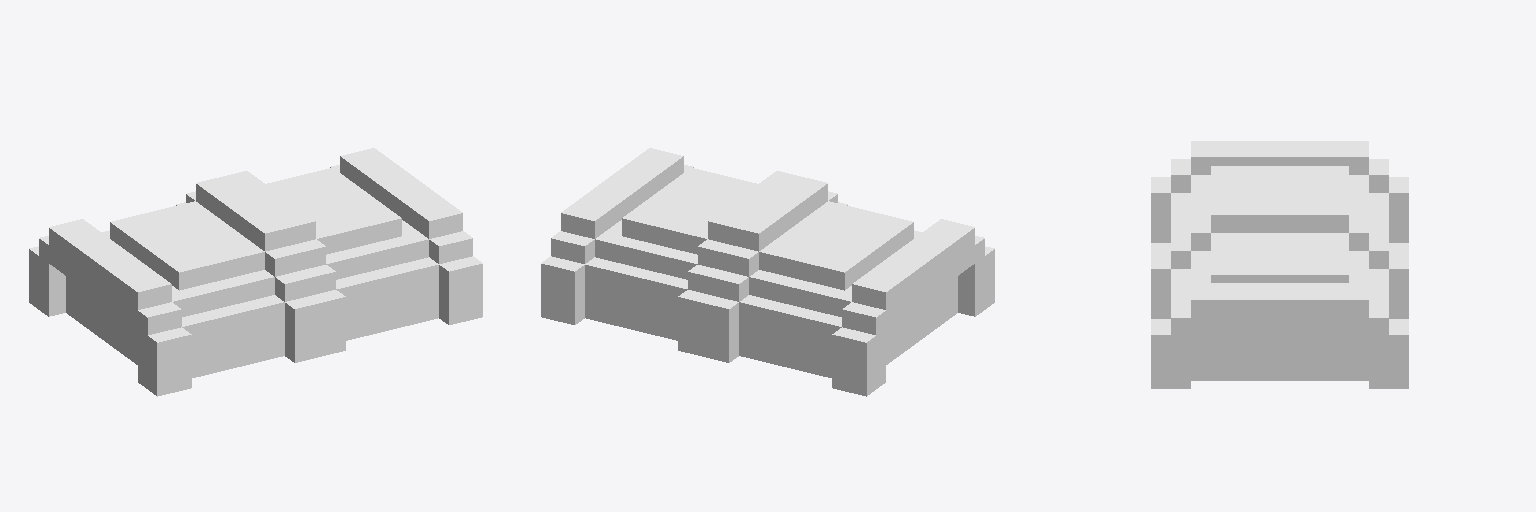
The model's file is Final_Box_Lid.obj.
3 renders of one model, left to right at view 1: azimuth 30°, elevation 25°; view 2: azimuth 150°, elevation 25°; view 3: azimuth 270°, elevation 25°, orthographic.
Parts seen in each view (by area): view 1: object 1; view 2: object 1; view 3: object 1.
Boxes of the visible parts, x1=… form: object 1: x1=29, y1=148, x2=482, y2=396; object 1: x1=541, y1=148, x2=994, y2=396; object 1: x1=1151, y1=141, x2=1408, y2=388.
Bounding box in the file's own units: 1.9 × 0.6 × 1.3.